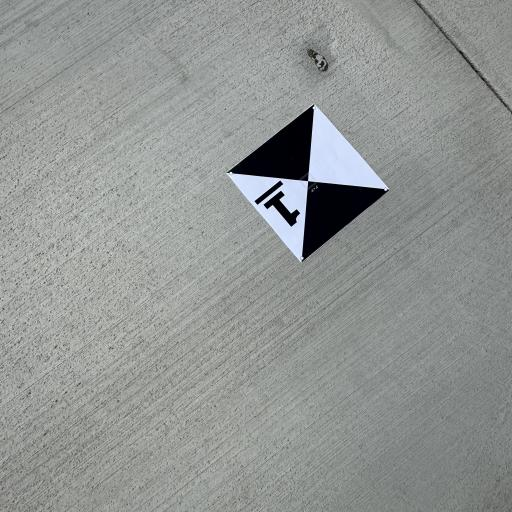target1: (225, 99, 397, 267)
